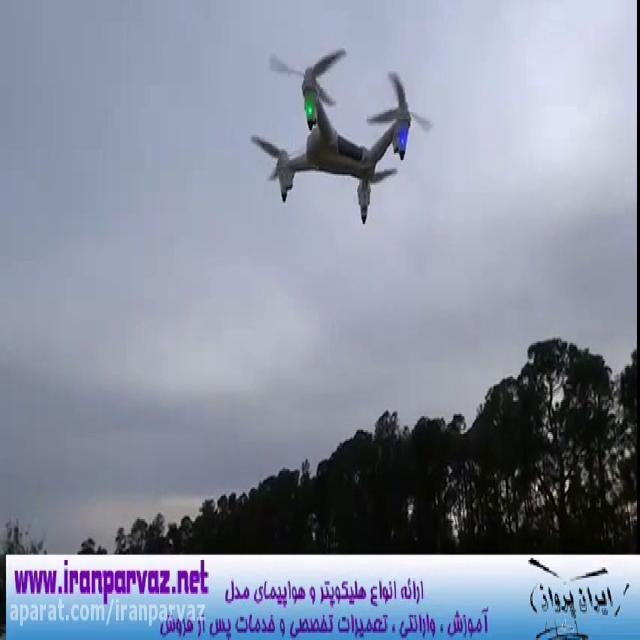drone: (247, 39, 435, 226)
